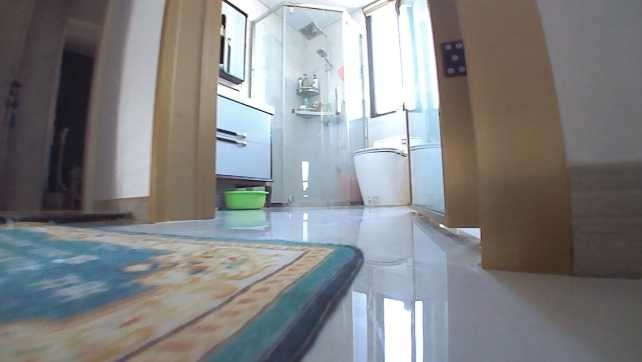blanket: (0, 216, 364, 361)
toilet: (350, 133, 409, 205)
washstand: (209, 82, 275, 204)
